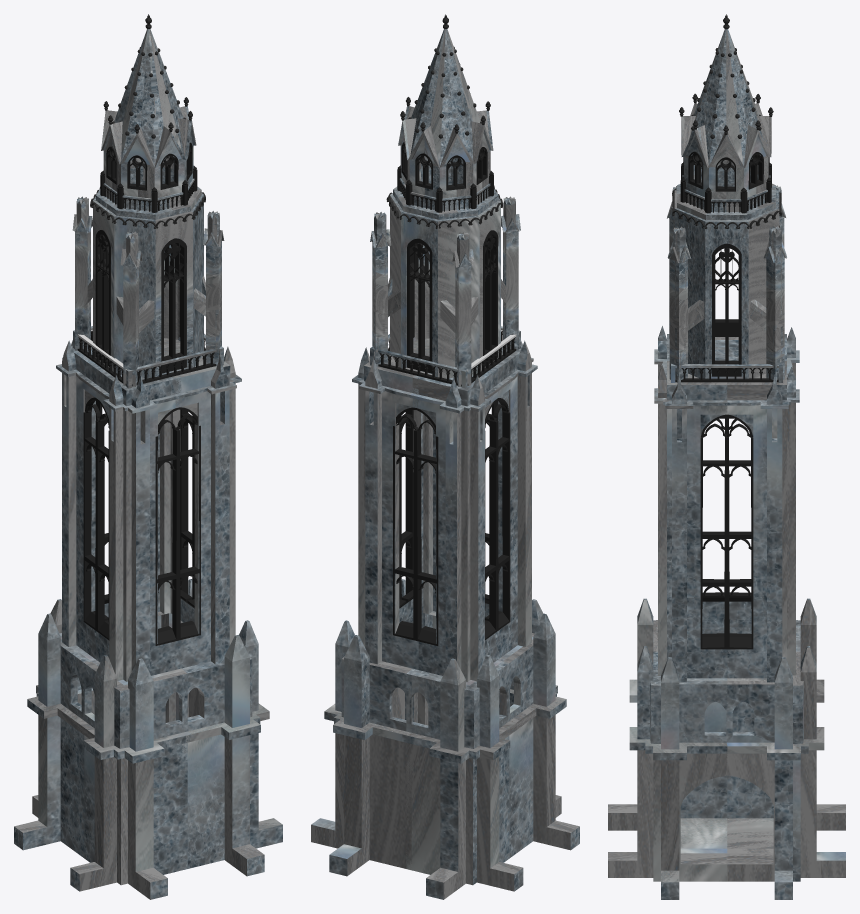
File: Turm.fbx
3 views of the same model, side by side, from view 1: azimuth 30°, elevation 25°; view 2: azimuth 150°, elevation 25°; view 3: azimuth 270°, elevation 25° (orthographic).
Parts seen in each view (by area): view 1: Cube.001, Circle.007, Cylinder.026, Cylinder, Cylinder.005, Cube, Circle.016, Cylinder.002, Circle.014, Cube.004, Cube.018; view 2: Cube.001, Circle.007, Cylinder.026, Cylinder, Cylinder.002, Cylinder.004, Circle.009, Cylinder.005, Circle.014, Cube.006, Cube.018; view 3: Cube.001, Cylinder.026, Cylinder, Circle.007, Cube, Cylinder.004, Circle.008, Cube.007, Circle.018, Circle.020.
Boxes of the visible parts, <box> form: Cube.001: <box>14,326,282,899</box>; Circle.007: <box>83,397,200,645</box>; Cylinder.026: <box>96,29,201,219</box>; Cylinder: <box>93,180,203,378</box>; Cylinder.005: <box>116,231,154,386</box>; Cube: <box>193,211,224,366</box>; Circle.016: <box>161,238,186,373</box>; Cylinder.002: <box>72,196,92,351</box>; Circle.014: <box>95,230,110,366</box>; Cube.004: <box>132,352,219,386</box>; Cube.018: <box>77,337,126,385</box>; Cube.001: <box>311,326,579,899</box>; Circle.007: <box>393,398,510,645</box>; Cylinder.026: <box>393,29,498,219</box>; Cylinder: <box>390,180,500,378</box>; Cylinder.002: <box>440,232,478,386</box>; Cylinder.004: <box>370,212,400,366</box>; Circle.009: <box>407,238,432,373</box>; Cylinder.005: <box>501,196,520,351</box>; Circle.014: <box>483,230,498,366</box>; Cube.006: <box>374,352,461,386</box>; Cube.018: <box>467,337,518,385</box>; Cube.001: <box>608,326,845,899</box>; Cylinder.026: <box>676,29,776,220</box>; Cylinder: <box>674,183,779,378</box>; Circle.007: <box>700,414,753,649</box>; Cube: <box>667,226,704,382</box>; Cylinder.004: <box>750,226,786,382</box>; Circle.008: <box>712,243,741,376</box>; Cube.007: <box>675,368,778,382</box>; Circle.018: <box>688,151,703,189</box>; Circle.020: <box>748,152,763,189</box>.
Bounding box in the file's own units: 318 × 1241 × 320.
7 materials, 7 textured.
